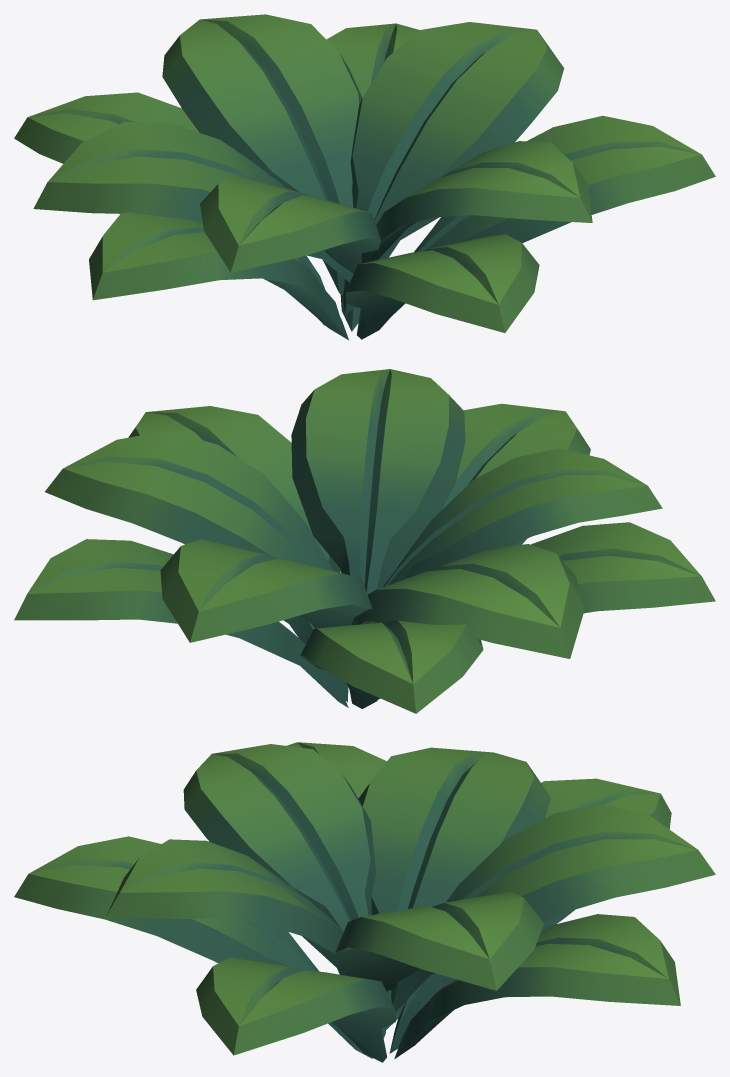
File: Fern-2-1.fbx
The picture shows the model from 3 angles, top to bottom: view 1: azimuth 30°, elevation 25°; view 2: azimuth 150°, elevation 25°; view 3: azimuth 270°, elevation 25°; orthographic projection. The views are drawn at different scales.
Visible parts, largest first — view 1: Fern-2-1; view 2: Fern-2-1; view 3: Fern-2-1.
Boxes of the visible parts, x1,y1,x2,y2 form: Fern-2-1: (14,14,715,339); Fern-2-1: (14,369,715,713); Fern-2-1: (14,742,715,1062).
Bounding box in the file's own units: 295 × 106 × 296.
